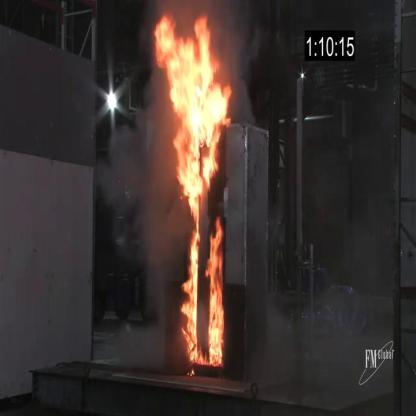fire: (150, 6, 235, 382)
